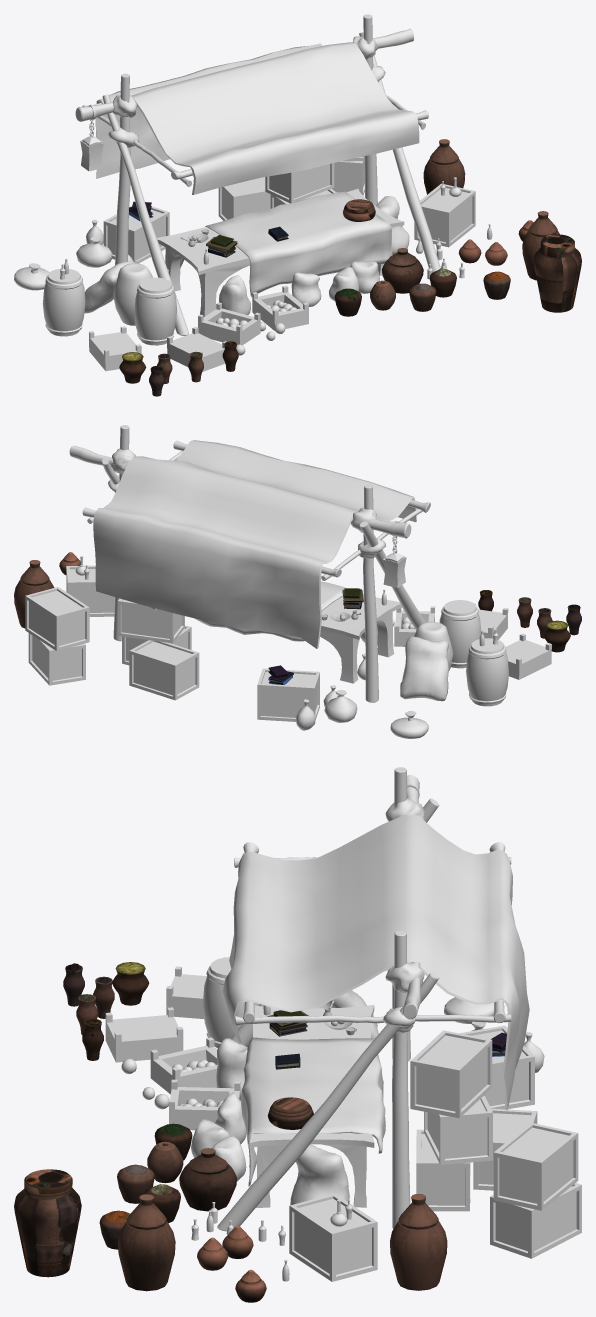
Rendered from Stragan_garncarski.fbx.
The picture shows the model from 3 angles, top to bottom: view 1: azimuth 30°, elevation 25°; view 2: azimuth 150°, elevation 25°; view 3: azimuth 270°, elevation 25°; orthographic projection. The views are drawn at different scales.
Visible parts, largest first — view 1: Plane:001.001, Plane.003, Cube:001, Circle.011, Plane.011, Circle.003_Circle.001, Circle.003_Circle.002, Circle:004.002, Plane.009, Plane.002, Plane.004, Circle:003.002 (+28 smaller); view 2: Plane:001.001, Plane.004, Plane.007, Cube:001, Cube:009_Cube:010, Plane.002, Circle.003_Circle.002, Plane.009, Circle:003.002, Plane.006, Circle.003_Circle.001, Plane.011 (+15 smaller); view 3: Plane:001.001, Plane.003, Plane.007, Plane.011, Plane.010, Circle.011, Cube:001, Circle:006.001, Plane.006, Circle:003_Circle:023, Circle:004_Circle:028, Circle:008.001 (+28 smaller).
Part boxes in pixels (left/top/right/bottom): Plane:001.001: left=95, top=42, right=419, bottom=194; Plane.003: left=205, top=191, right=391, bottom=297; Cube:001: left=157, top=188, right=404, bottom=316; Circle.011: left=533, top=234, right=581, bottom=312; Plane.011: left=414, top=183, right=475, bottom=247; Circle.003_Circle.001: left=134, top=277, right=176, bottom=345; Circle.003_Circle.002: left=42, top=268, right=85, bottom=336; Circle:004.002: left=102, top=94, right=188, bottom=335; Plane.009: left=265, top=163, right=334, bottom=203; Plane.002: left=103, top=206, right=169, bottom=263; Plane.004: left=218, top=177, right=270, bottom=220; Circle:003.002: left=115, top=73, right=130, bottom=265; Plane:001.001: left=93, top=440, right=416, bottom=648; Plane.004: left=129, top=640, right=199, bottom=700; Plane.007: left=25, top=587, right=89, bottom=650; Cube:001: left=320, top=594, right=402, bottom=683; Cube:009_Cube:010: left=400, top=636, right=448, bottom=701; Plane.002: left=257, top=668, right=319, bottom=721; Circle.003_Circle.002: left=466, top=638, right=508, bottom=706; Plane.009: left=117, top=598, right=184, bottom=643; Circle:003.002: left=363, top=484, right=378, bottom=702; Plane.006: left=28, top=633, right=85, bottom=685; Circle.003_Circle.001: left=439, top=600, right=481, bottom=668; Plane.011: left=66, top=565, right=114, bottom=616; Plane:001.001: left=222, top=814, right=529, bottom=1110; Plane.003: left=241, top=1037, right=385, bottom=1186; Plane.007: left=493, top=1122, right=578, bottom=1210; Plane.011: left=289, top=1193, right=377, bottom=1281; Plane.010: left=410, top=1030, right=492, bottom=1118; Circle.011: left=14, top=1169, right=81, bottom=1277; Cube:001: left=249, top=1004, right=374, bottom=1207; Circle:006.001: left=217, top=972, right=439, bottom=1231; Plane.006: left=490, top=1183, right=581, bottom=1258; Circle:003_Circle:023: left=118, top=1194, right=175, bottom=1291; Circle:004_Circle:028: left=390, top=1193, right=447, bottom=1290; Circle:008.001: left=392, top=930, right=410, bottom=1228.
Size of the model in its own units: 9.11 by 3.97 by 6.91.
